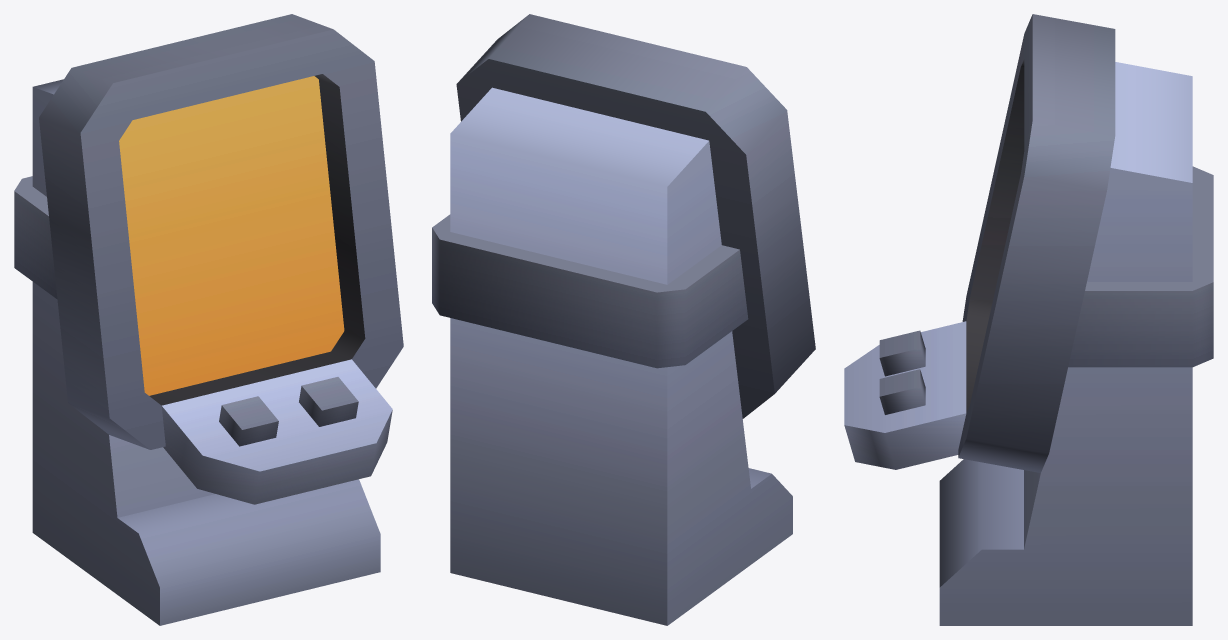
File: computer.glb
3 views of the same model, side by side, from view 1: azimuth 30°, elevation 25°; view 2: azimuth 150°, elevation 25°; view 3: azimuth 270°, elevation 25° (orthographic).
Visible parts, largest first — view 1: computer; view 2: computer; view 3: computer.
Boxes of the visible parts, x1=… form: computer: x1=14, y1=14, x2=403, y2=625; computer: x1=432, y1=14, x2=815, y2=625; computer: x1=844, y1=14, x2=1213, y2=625.
Bounding box in the file's own units: 0.4 × 0.6609 × 0.4381.
Materials: 1 (1 with a texture image).
